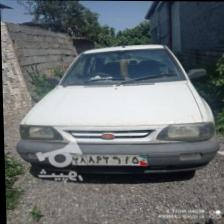plate: (70, 153, 148, 165)
